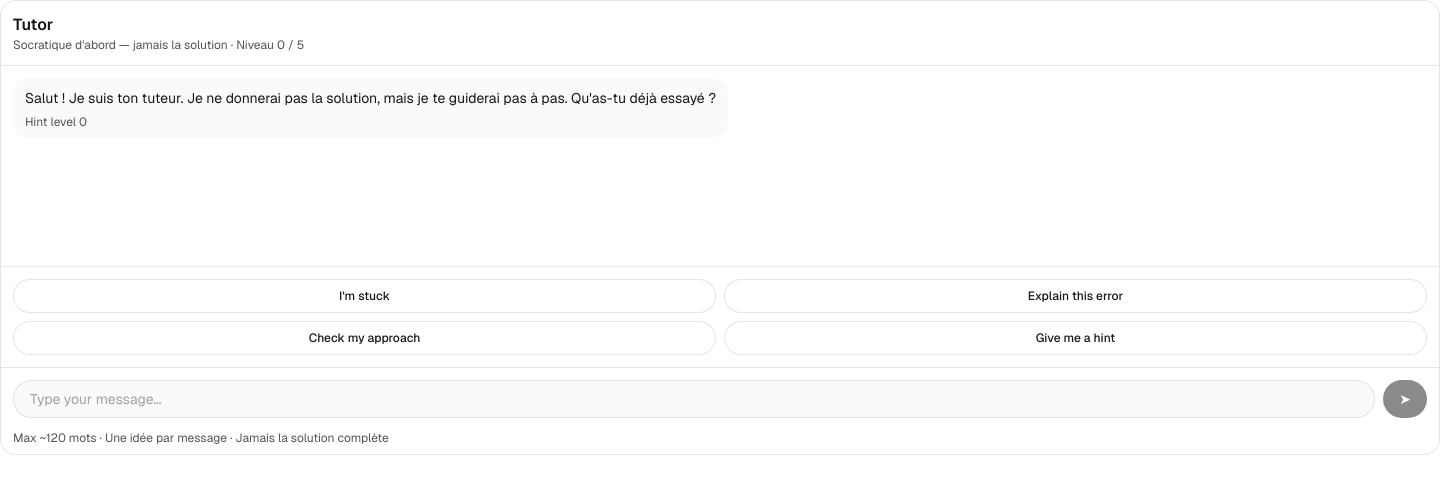
TutorChat › quick action hint escalates level
The image size is (1440, 480).
Click the button with test id "quick-hint" at (1076, 338), box 724,321 -> 1427,355
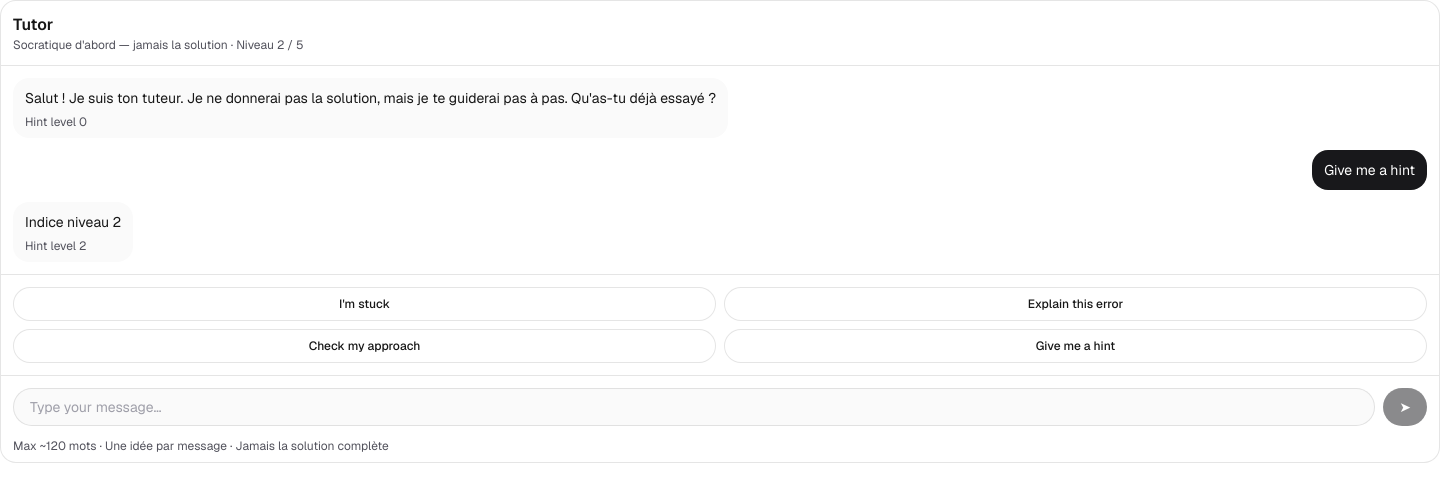
Expected: the text "Indice niveau 2" is shown, 25,213 -> 121,231
